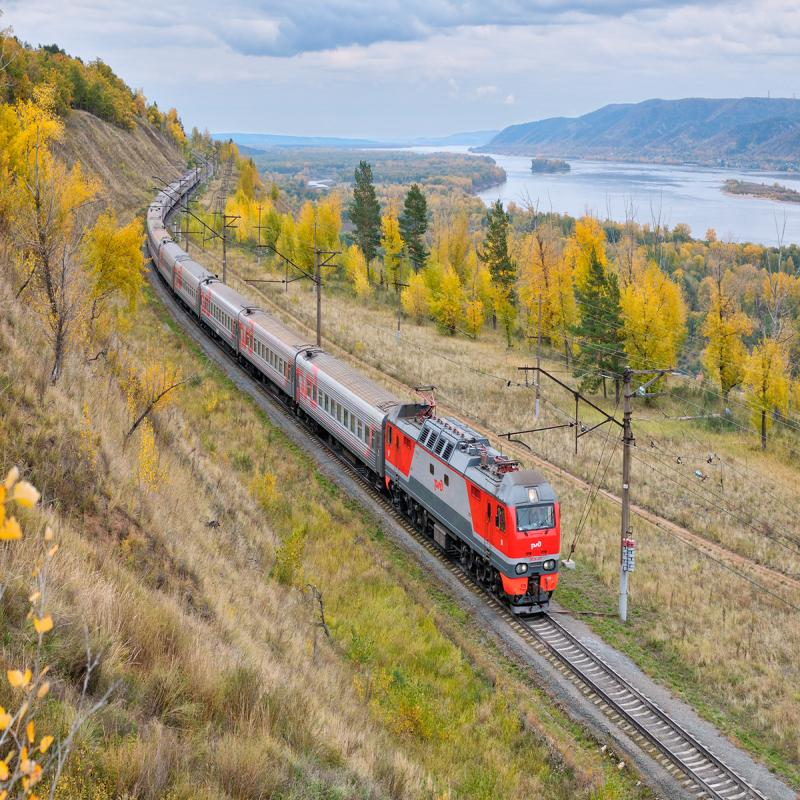train: (383, 361, 571, 627), (295, 297, 408, 515), (239, 262, 308, 411), (203, 253, 255, 359)
